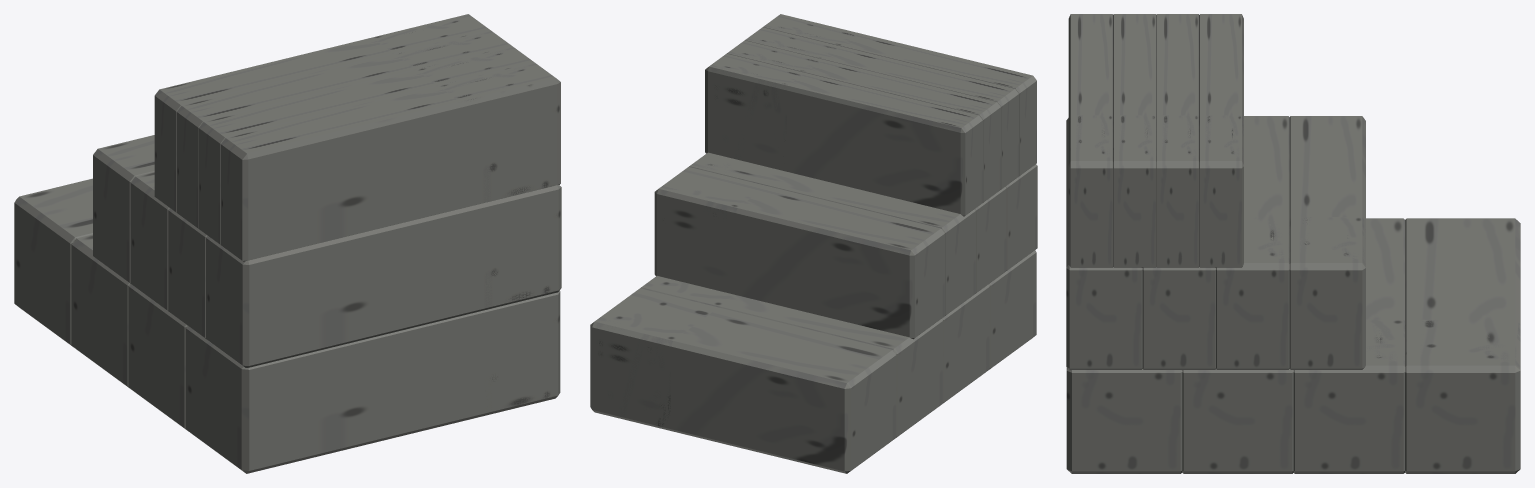
File: Stairs.fbx
3 renders of one model, left to right at view 1: azimuth 30°, elevation 25°; view 2: azimuth 150°, elevation 25°; view 3: azimuth 270°, elevation 25°, orthographic. The views are drawn at different scales.
Parts seen in each view (by area): view 1: Cube.002, Cube, Cube.001; view 2: Cube, Cube.002, Cube.001; view 3: Cube, Cube.001, Cube.002.
Boxes of the visible parts, x1,y1,x2,y2 form: Cube.002: (154,14,560,261); Cube: (14,178,560,473); Cube.001: (93,135,561,367); Cube: (590,250,1036,473); Cube.002: (705,14,1036,216); Cube.001: (654,152,1037,339); Cube: (1066,218,1520,473); Cube.001: (1066,116,1365,370); Cube.002: (1068,14,1243,267).
Bounding box in the file's own units: 600 × 577 × 760.
1 material, 1 textured.
